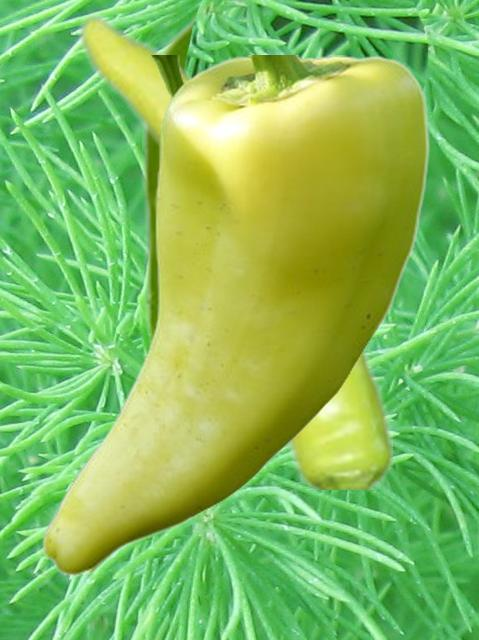green_chili: (41, 55, 429, 577), (78, 10, 391, 488), (142, 5, 198, 349)
